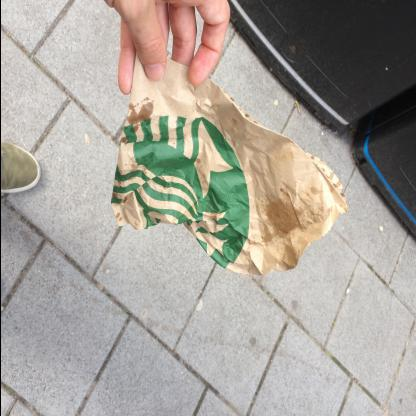kagit: (110, 52, 348, 280)
